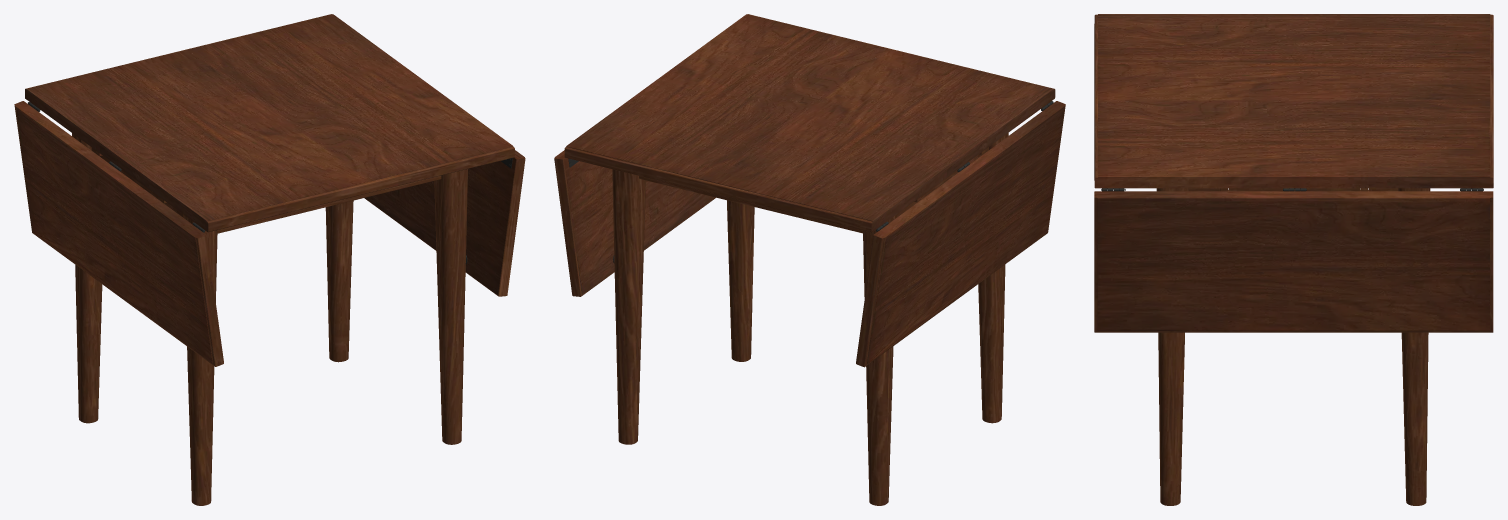
Rendered from abo-B07B82PXCW.glb.
3 views of the same model, side by side, from view 1: azimuth 30°, elevation 25°; view 2: azimuth 150°, elevation 25°; view 3: azimuth 270°, elevation 25° (orthographic). The views are drawn at different scales.
Size of the model in its own units: 0.843 by 0.763 by 0.812.
1 material, 1 textured.
